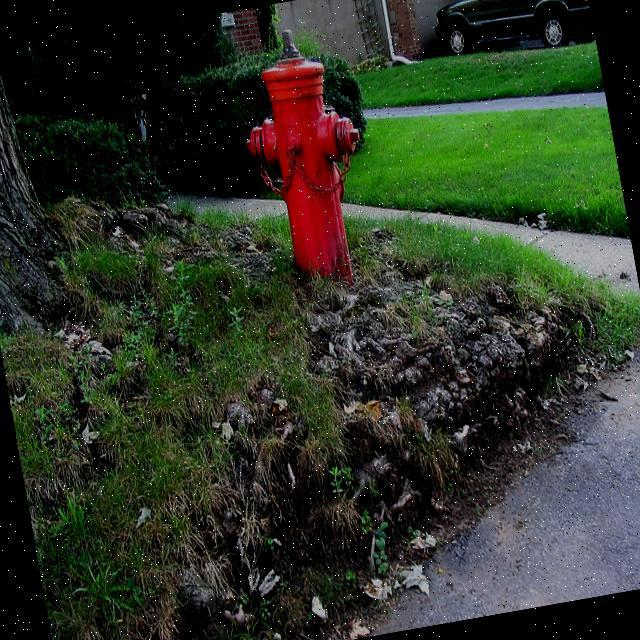fire_hydrant: (224, 22, 384, 307)
